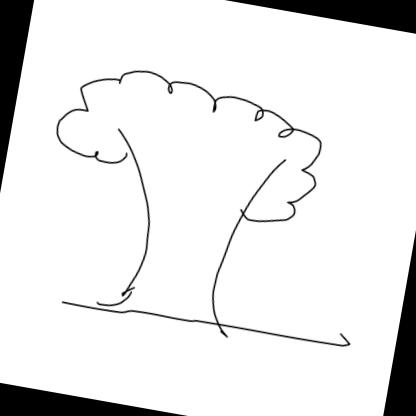crown_cloud: (44, 56, 330, 230)
root_none: (80, 287, 254, 364)
trunk_straight: (127, 198, 242, 303)
